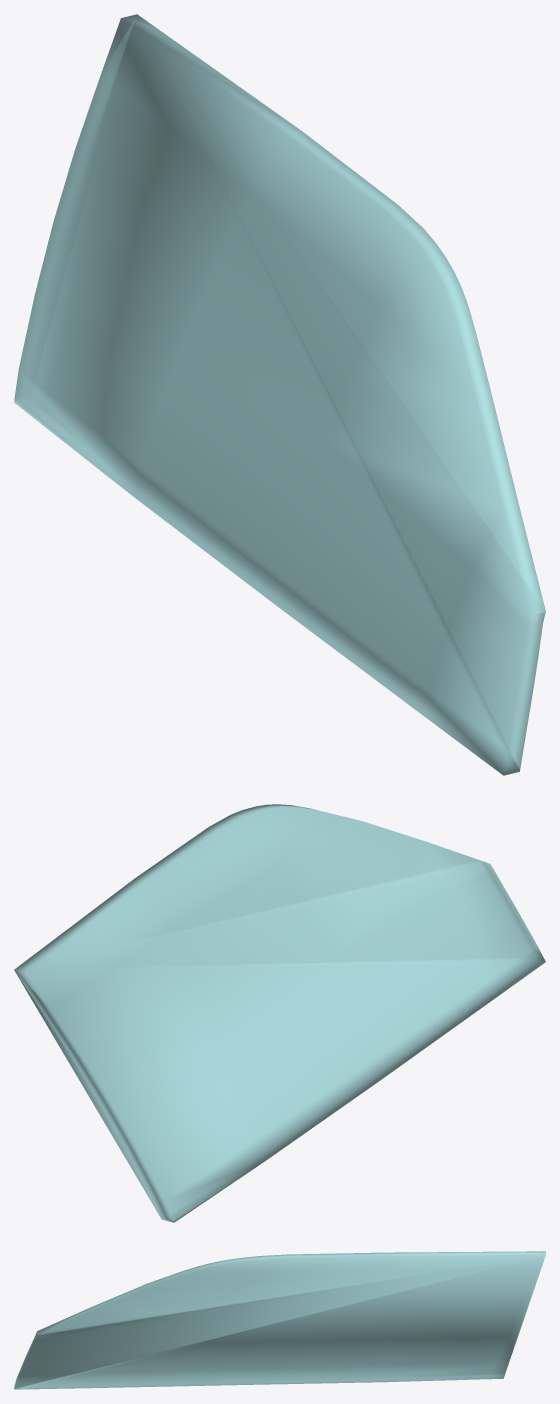
The picture shows the model from 3 angles, top to bottom: view 1: azimuth 30°, elevation 25°; view 2: azimuth 150°, elevation 25°; view 3: azimuth 270°, elevation 25°; orthographic projection. The views are drawn at different scales.
Visible parts, largest first — view 1: sideR_glass.004; view 2: sideR_glass.004; view 3: sideR_glass.004.
Boxes of the visible parts, box(x1,y1,x2,y2) form: sideR_glass.004: box(14, 14, 545, 775); sideR_glass.004: box(14, 804, 545, 1222); sideR_glass.004: box(14, 1251, 545, 1389).
Bounding box in the file's own units: 18.14 × 34.38 × 97.59.
